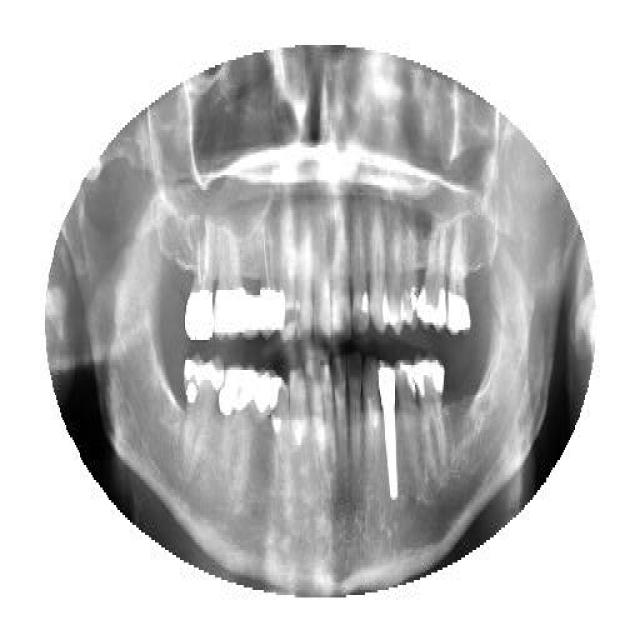Fillings: (181, 352, 224, 480), (220, 367, 256, 485), (184, 218, 216, 342), (416, 358, 446, 482), (255, 222, 285, 338), (254, 370, 285, 478), (213, 232, 245, 332), (418, 220, 447, 328), (396, 360, 419, 490), (448, 223, 472, 335), (241, 225, 259, 333)
Implant: (378, 355, 398, 500)
